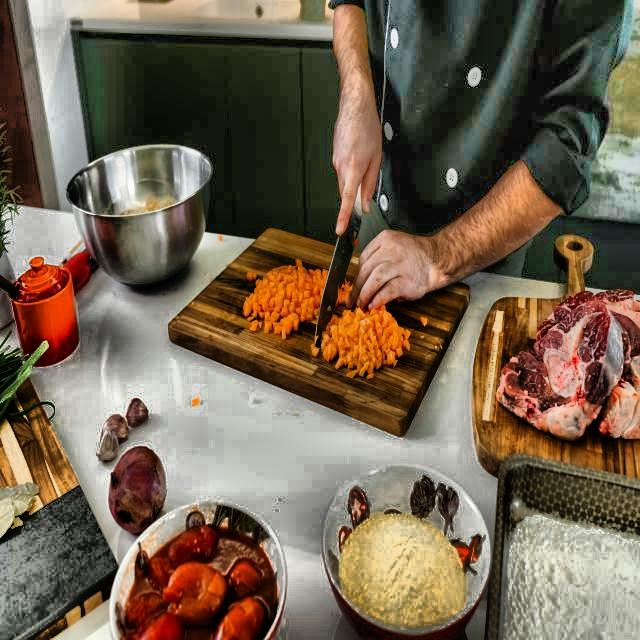knife: (309, 156, 376, 347)
